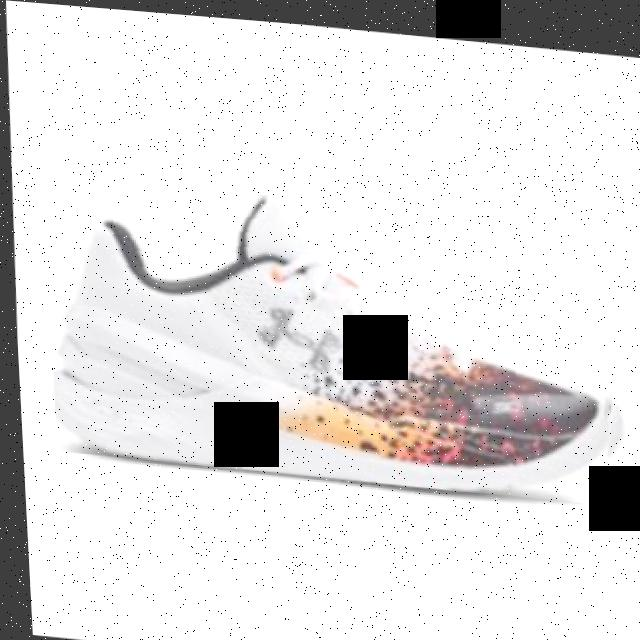shoe: (39, 172, 624, 497)
